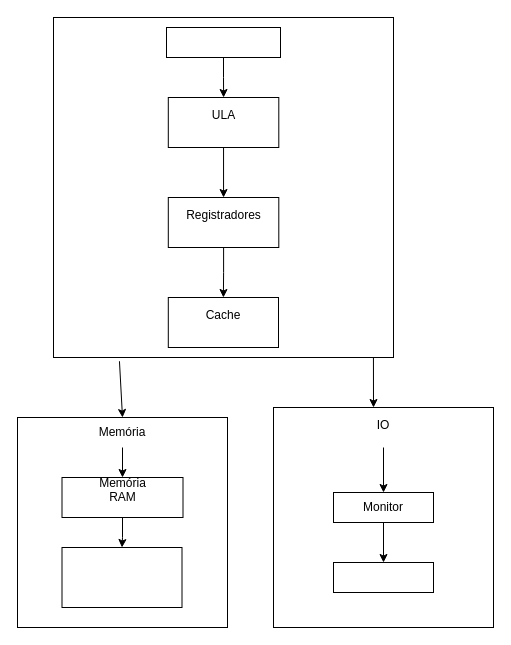
Some shapes in this 511 by 645 pixel diagram are drawn without their labels. The box of each missing label's shape, as (x1, y1, x2, y2) in pixels:
CPU: (166, 26, 280, 58)
Memóra ROM: (61, 546, 182, 608)
Mouse: (332, 562, 434, 592)
